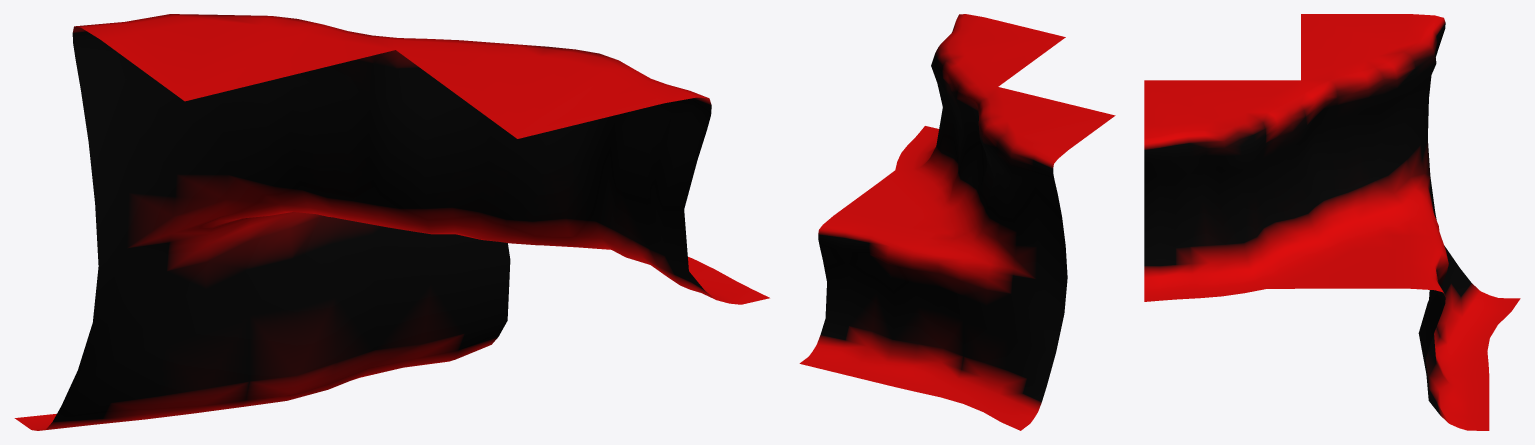
Rendered from Cliff 1x2x1 Background.fbx.
3 renders of one model, left to right at view 1: azimuth 30°, elevation 25°; view 2: azimuth 150°, elevation 25°; view 3: azimuth 270°, elevation 25°, orthographic. The views are drawn at different scales.
Parts seen in each view (by area): view 1: Cliff 1x2x1 Background; view 2: Cliff 1x2x1 Background; view 3: Cliff 1x2x1 Background.
Boxes of the visible parts, box(x1,y1,x2,y2) form: Cliff 1x2x1 Background: box(14, 14, 769, 430); Cliff 1x2x1 Background: box(799, 14, 1115, 430); Cliff 1x2x1 Background: box(1144, 14, 1520, 430).
Size of the model in its own units: 2.2 by 2 by 2.4.
